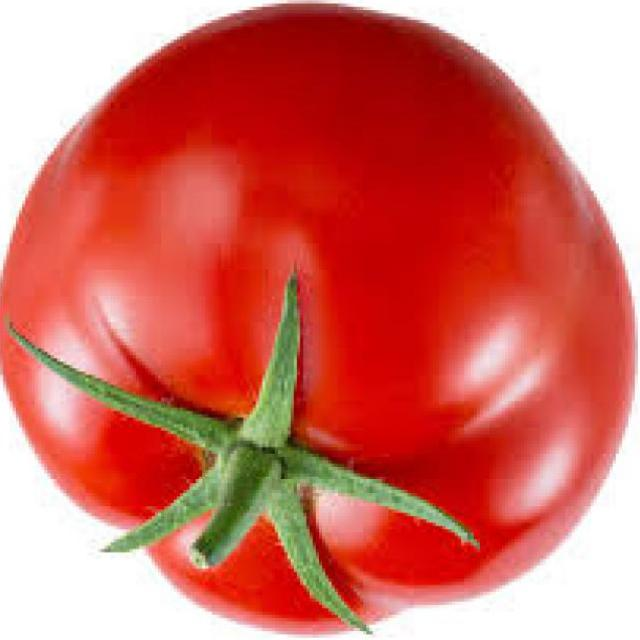Healthy: (11, 0, 640, 636)
